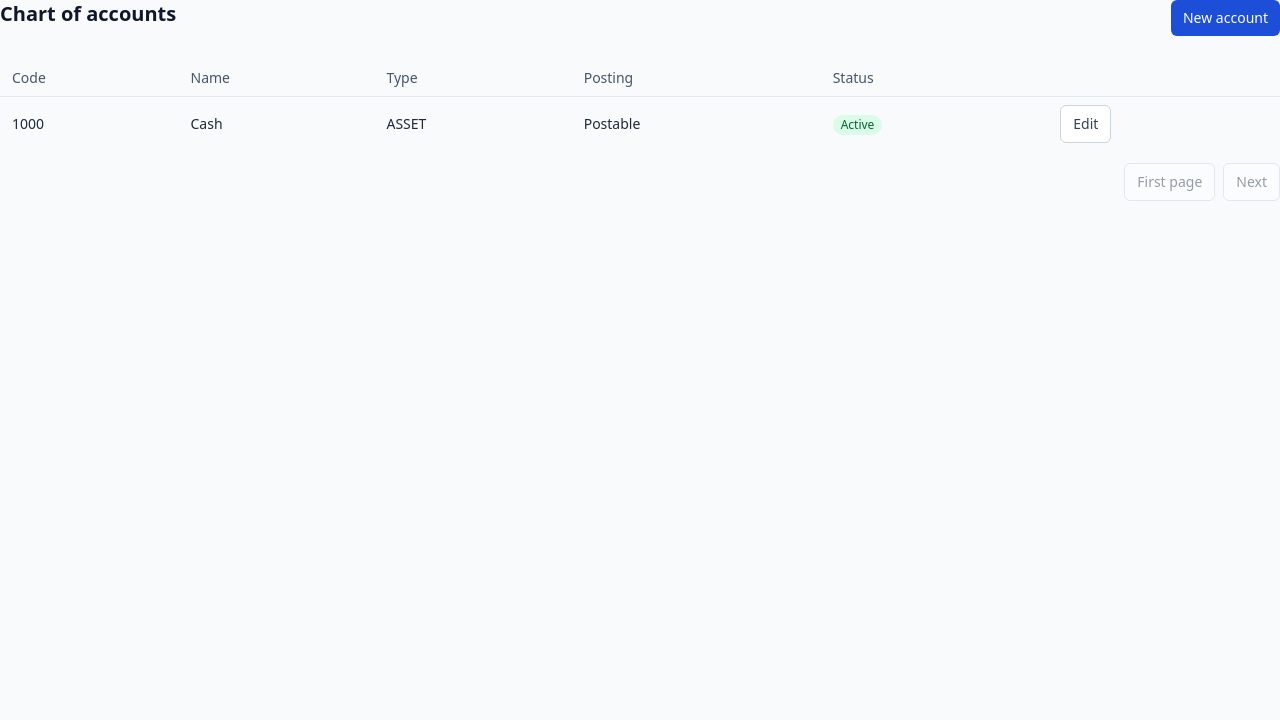
account edit › renames and shows a server refusal on deactivate
This screenshot has width=1280, height=720.
Click the button with aria-label "Edit account 1000". click: click(1086, 124)
box: [1060,105,1111,143]
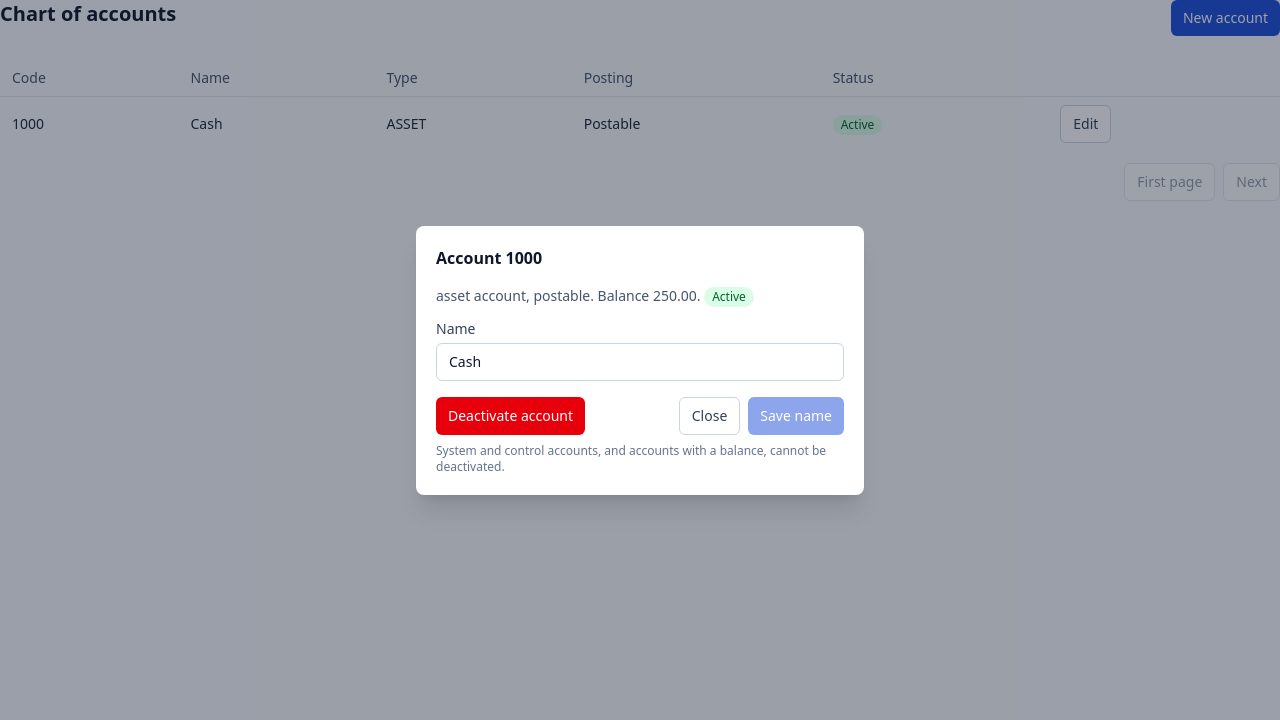
Replace the text in the field labelled "Name" with "Petty cash". click: (640, 362)
box: [436,342,844,380]
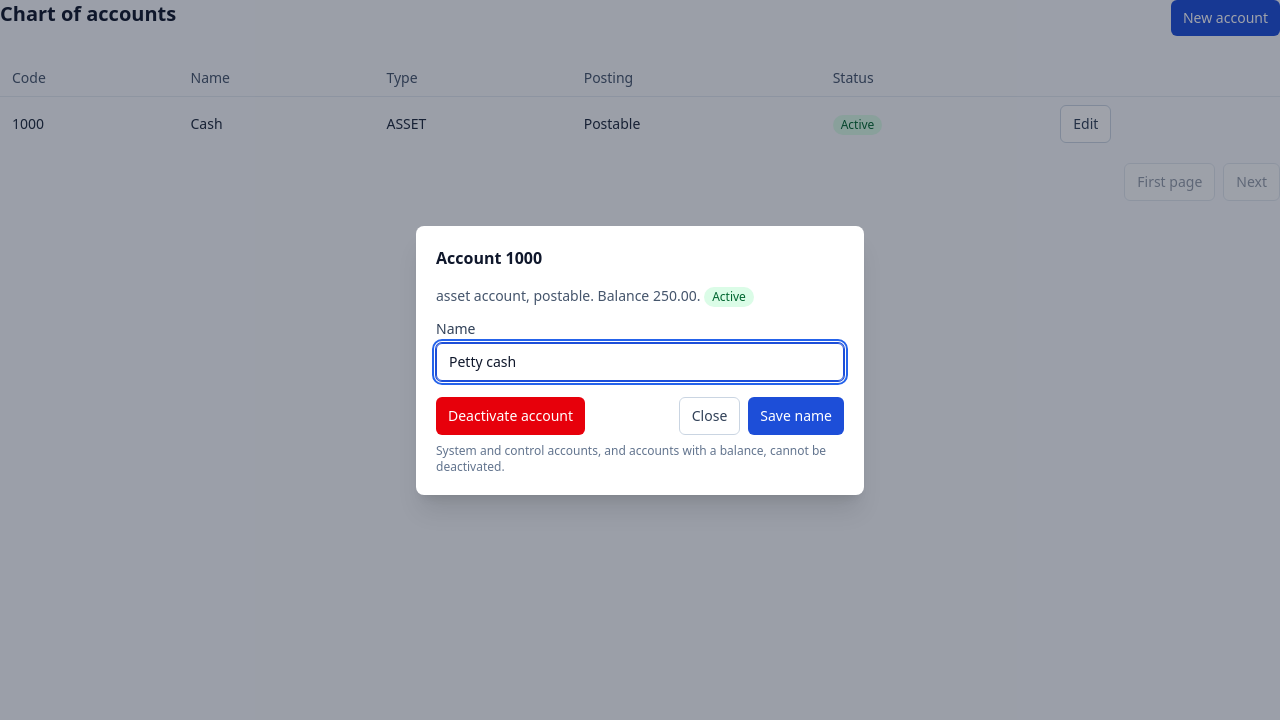
Click the button "Save name". click: click(796, 416)
box: [748,396,844,434]
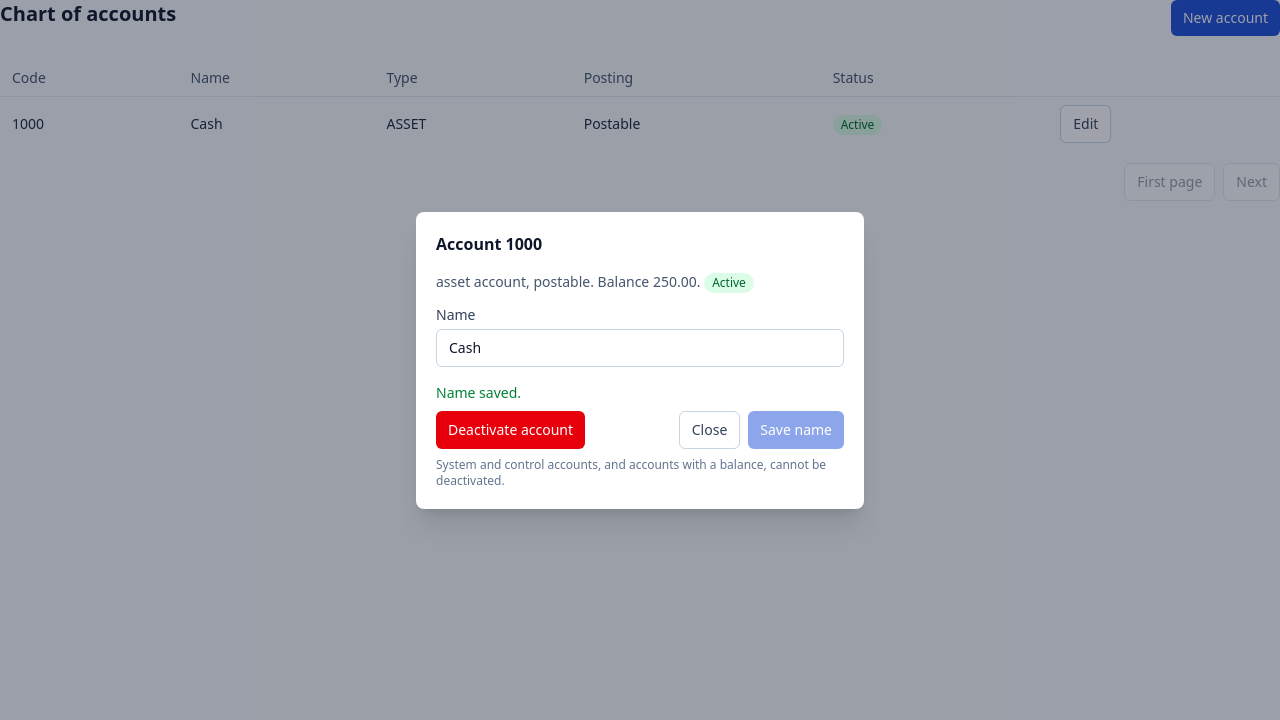
Expected: the text "Name saved." is shown, [436,382,521,402]
Click the button "Deactivate account". click: click(510, 430)
box: [436,410,585,448]
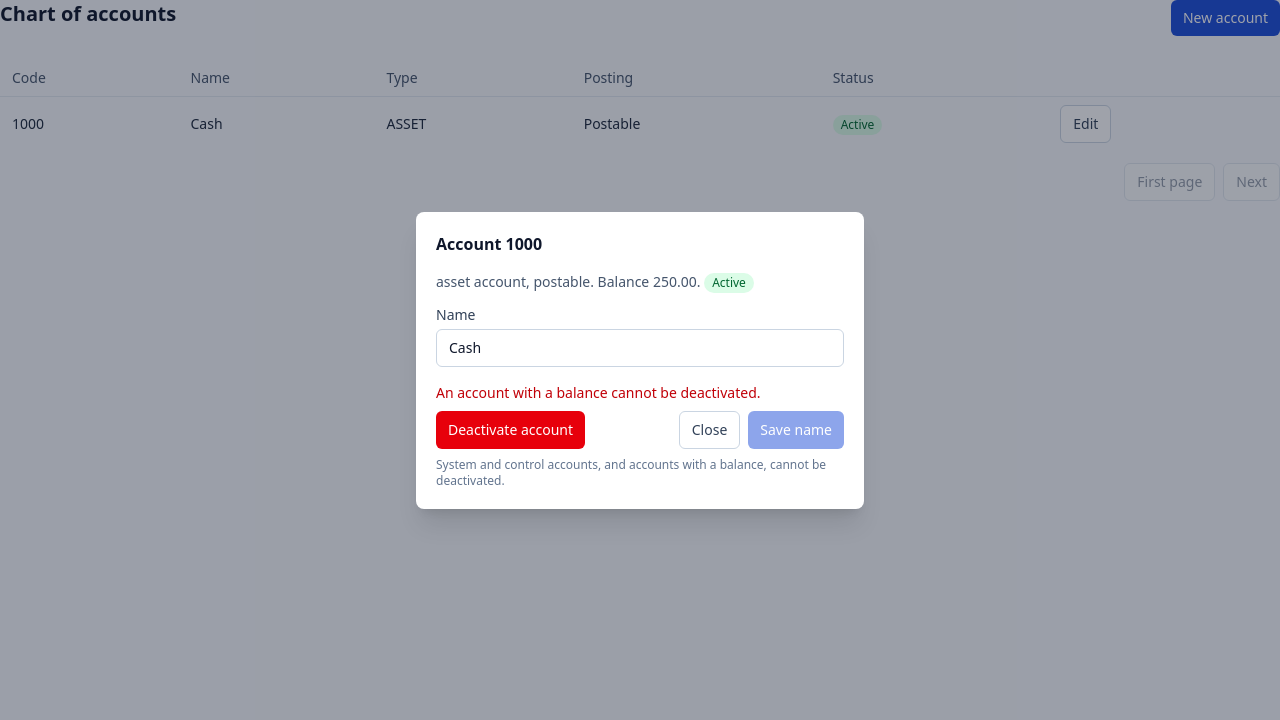
Expected: the text "An account with a balance cannot be deactivated." is shown, [436,382,760,402]
